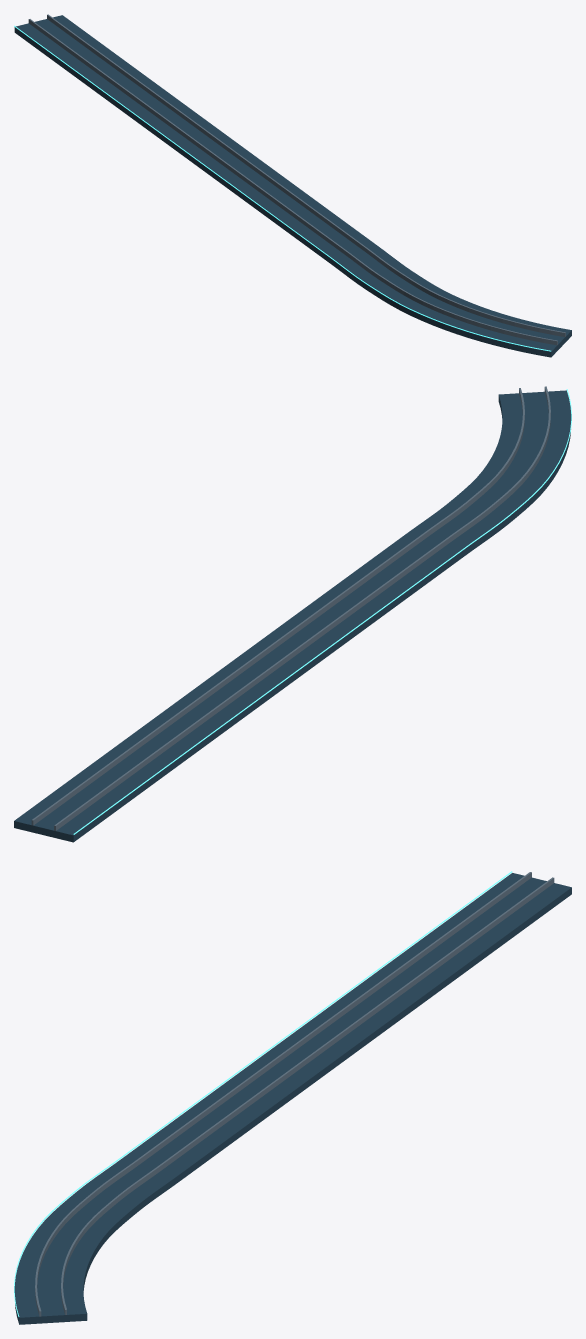
File: track_chunk_06.glb
3 renders of one model, top to bottom at view 1: azimuth 30°, elevation 25°; view 2: azimuth 150°, elevation 25°; view 3: azimuth 330°, elevation 25°, orthographic. The views are drawn at different scales.
Visible parts, largest first — view 1: deck_6, rail_left_6, rail_right_6, edge_light_6; view 2: deck_6, rail_left_6, rail_right_6, edge_light_6; view 3: deck_6, rail_left_6, rail_right_6, edge_light_6.
Boxes of the visible parts, <box> form: deck_6: <box>14,15,571,357</box>; rail_left_6: <box>28,19,557,345</box>; rail_right_6: <box>47,14,565,336</box>; edge_light_6: <box>14,25,550,351</box>; deck_6: <box>14,390,571,842</box>; rail_left_6: <box>54,386,550,830</box>; rail_right_6: <box>31,388,524,825</box>; edge_light_6: <box>73,389,571,834</box>; deck_6: <box>14,873,571,1324</box>; rail_left_6: <box>35,872,531,1316</box>; rail_right_6: <box>61,877,554,1314</box>; edge_light_6: <box>14,871,512,1316</box>.
Size of the model in its own units: 8.56 by 0.7464 by 64.04.
